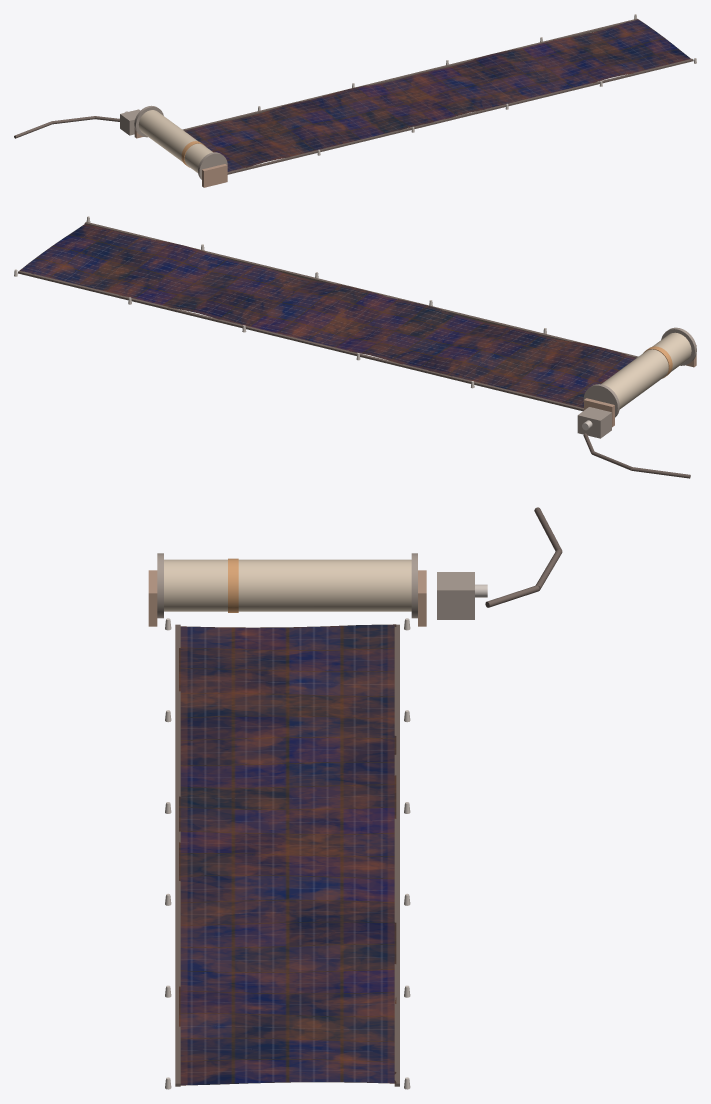
File: E01_solar_blanket_10m.glb
The picture shows the model from 3 angles, top to bottom: view 1: azimuth 30°, elevation 25°; view 2: azimuth 150°, elevation 25°; view 3: azimuth 270°, elevation 25°; orthographic projection. The views are drawn at different scales.
Parts seen in each view (by area): view 1: solar_blanket, edge_hem (×2), roller_drum, roller_stand, roller_cap, connector_box; view 2: solar_blanket, edge_hem (×2), roller_drum, connector_box, roller_cap; view 3: solar_blanket, roller_drum, edge_hem (×2), connector_box.
Boxes of the visible parts, <box> form: solar_blanket: <box>184,19,690,171</box>; edge_hem (×2): <box>182,18,693,174</box>; roller_drum: <box>138,110,212,172</box>; roller_stand: <box>202,164,227,187</box>; roller_cap: <box>198,152,227,179</box>; connector_box: <box>120,109,140,135</box>; solar_blanket: <box>19,224,635,407</box>; edge_hem (×2): <box>18,222,638,411</box>; roller_drum: <box>601,332,691,409</box>; connector_box: <box>577,407,611,438</box>; roller_cap: <box>583,384,619,417</box>; solar_blanket: <box>179,624,396,1085</box>; roller_drum: <box>164,559,411,611</box>; edge_hem (×2): <box>175,624,399,1086</box>; connector_box: <box>437,572,474,619</box>.
Bounding box in the file's own units: 12.54 × 0.6 × 3.81.
7 materials, 1 textured.
